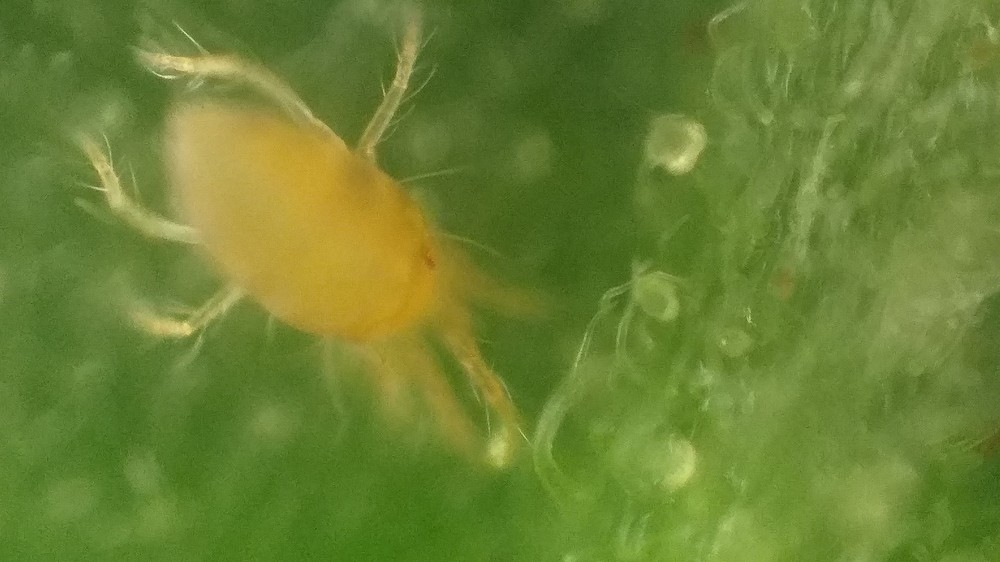Aracnido Rojo: (85, 21, 604, 476)
